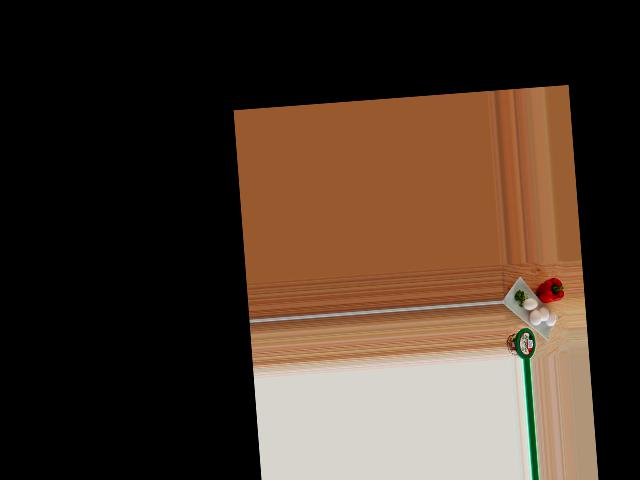bell_pepper: (536, 275, 564, 307)
